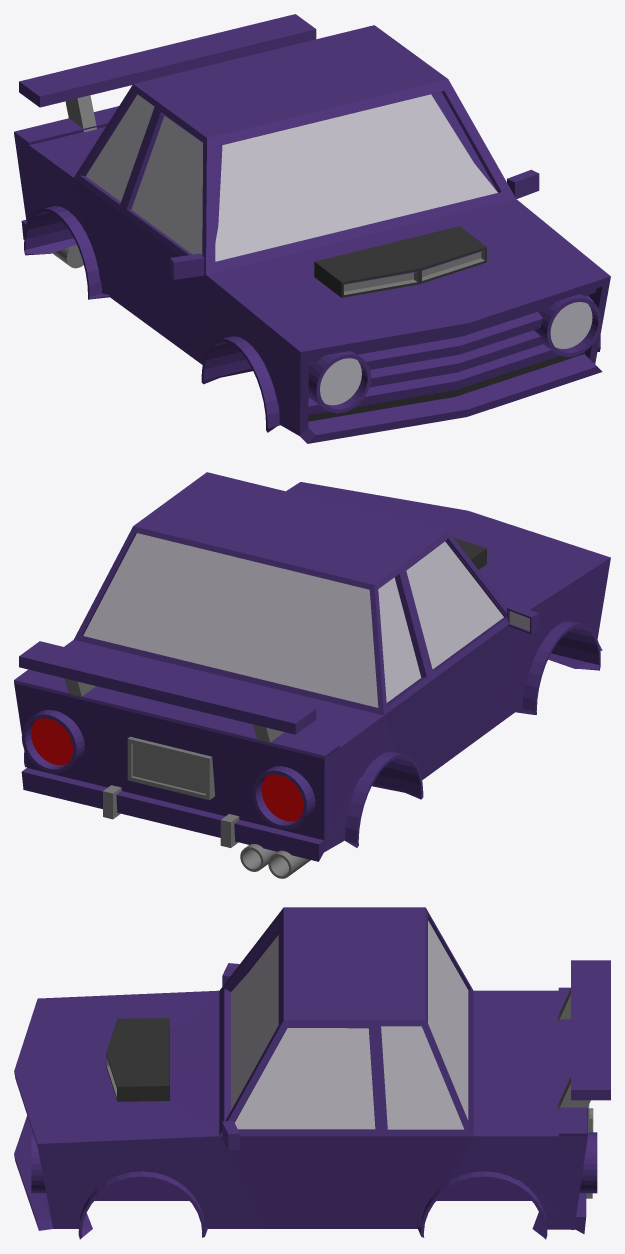
The model's file is carOneBody.glb.
3 views of the same model, one above another, from view 1: azimuth 30°, elevation 25°; view 2: azimuth 150°, elevation 25°; view 3: azimuth 270°, elevation 25° (orthographic). The views are drawn at different scales.
Parts seen in each view (by area): view 1: Cube, Cube.004, Cylinder, Cube.001, Cube.003; view 2: Cube, Cube.004, Cylinder, Cube.002, Cylinder.001, Cube.005, Cube.001, Cube.003; view 3: Cube, Cube.004, Cylinder, Cube.001, Cube.003.
Part boxes in pixels (x1=…): Cube: x1=14, y1=25, x2=610, y2=443; Cube.004: x1=19, y1=14, x2=316, y2=107; Cylinder: x1=308, y1=294, x2=601, y2=413; Cube.001: x1=170, y1=169, x2=539, y2=279; Cube.003: x1=65, y1=95, x2=96, y2=132; Cube: x1=14, y1=472, x2=610, y2=861; Cube.004: x1=19, y1=641, x2=316, y2=734; Cylinder: x1=21, y1=710, x2=315, y2=829; Cube.002: x1=127, y1=736, x2=214, y2=800; Cylinder.001: x1=240, y1=844, x2=310, y2=878; Cube.005: x1=103, y1=785, x2=239, y2=847; Cube.001: x1=507, y1=604, x2=539, y2=634; Cube.003: x1=64, y1=678, x2=284, y2=742; Cube: x1=14, y1=907, x2=587, y2=1239; Cube.004: x1=571, y1=960, x2=610, y2=1100; Cylinder: x1=31, y1=1132, x2=597, y2=1193; Cube.001: x1=222, y1=963, x2=239, y2=1150; Cube.003: x1=558, y1=989, x2=590, y2=1110.
Size of the model in its own units: 3.73 by 2.25 by 5.49.
